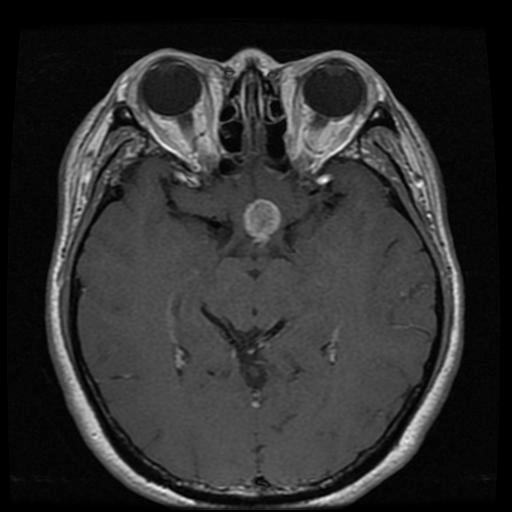Tumour-Pituitary: (241, 200, 281, 244)
